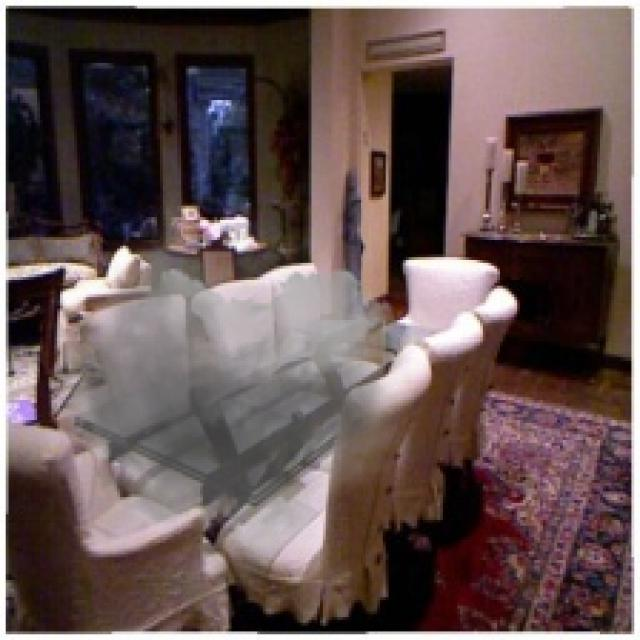smoke: (40, 192, 417, 572)
